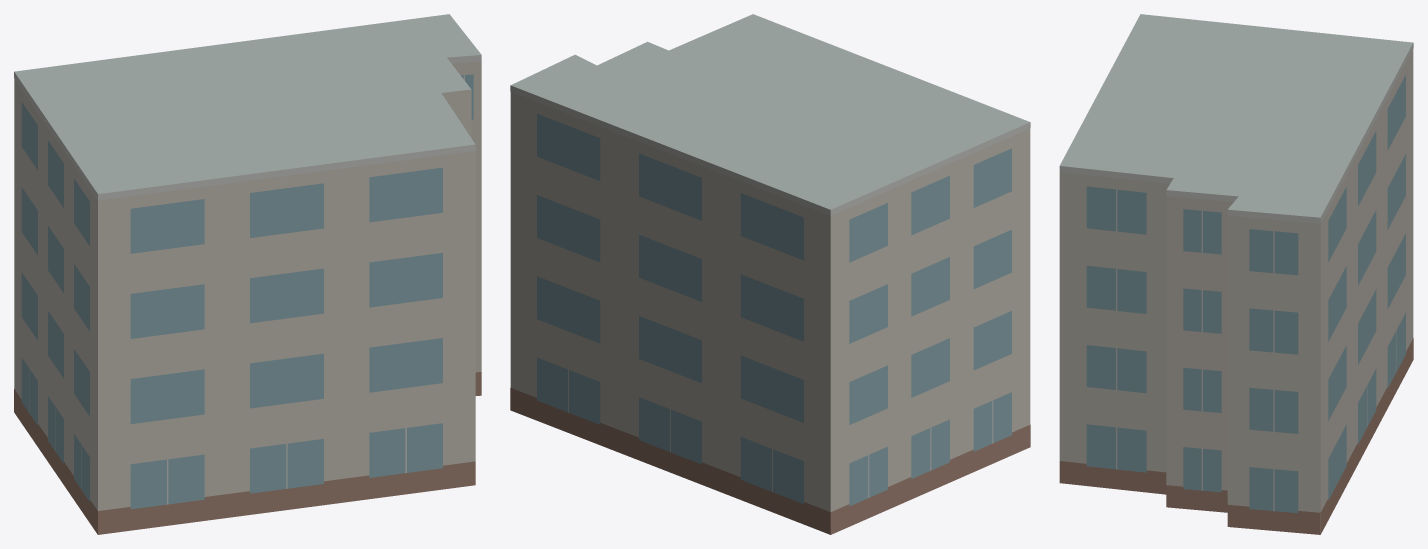
Rendered from survey-upis-32664067.glb.
3 views of the same model, side by side, from view 1: azimuth 30°, elevation 25°; view 2: azimuth 150°, elevation 25°; view 3: azimuth 270°, elevation 25° (orthographic). The views are drawn at different scales.
Parts seen in each view (by area): view 1: survey-upis-32664067.tmp; view 2: survey-upis-32664067.tmp; view 3: survey-upis-32664067.tmp.
Part boxes in pixels (x1,y1,x2,y2): survey-upis-32664067.tmp: [14, 14, 481, 534]; survey-upis-32664067.tmp: [510, 14, 1030, 534]; survey-upis-32664067.tmp: [1059, 14, 1413, 534].
Bounding box in the file's own units: 17.63 × 12.8 × 12.95.
